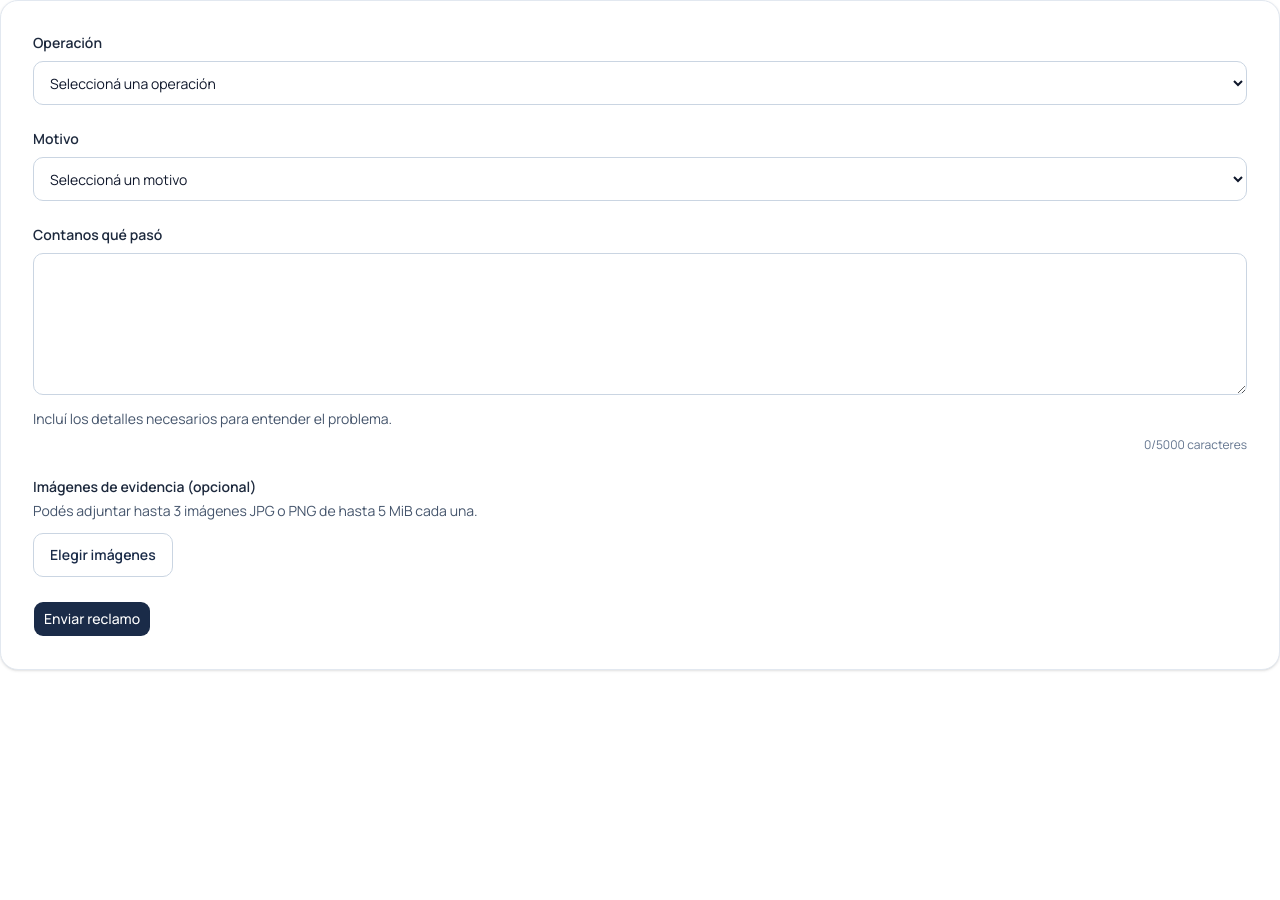
Test case: ParticipantClaimForm › validates required fields and associates the error with the first invalid control
Click the button with test id "claim-submit" at (92, 619), box [33,601,151,637]
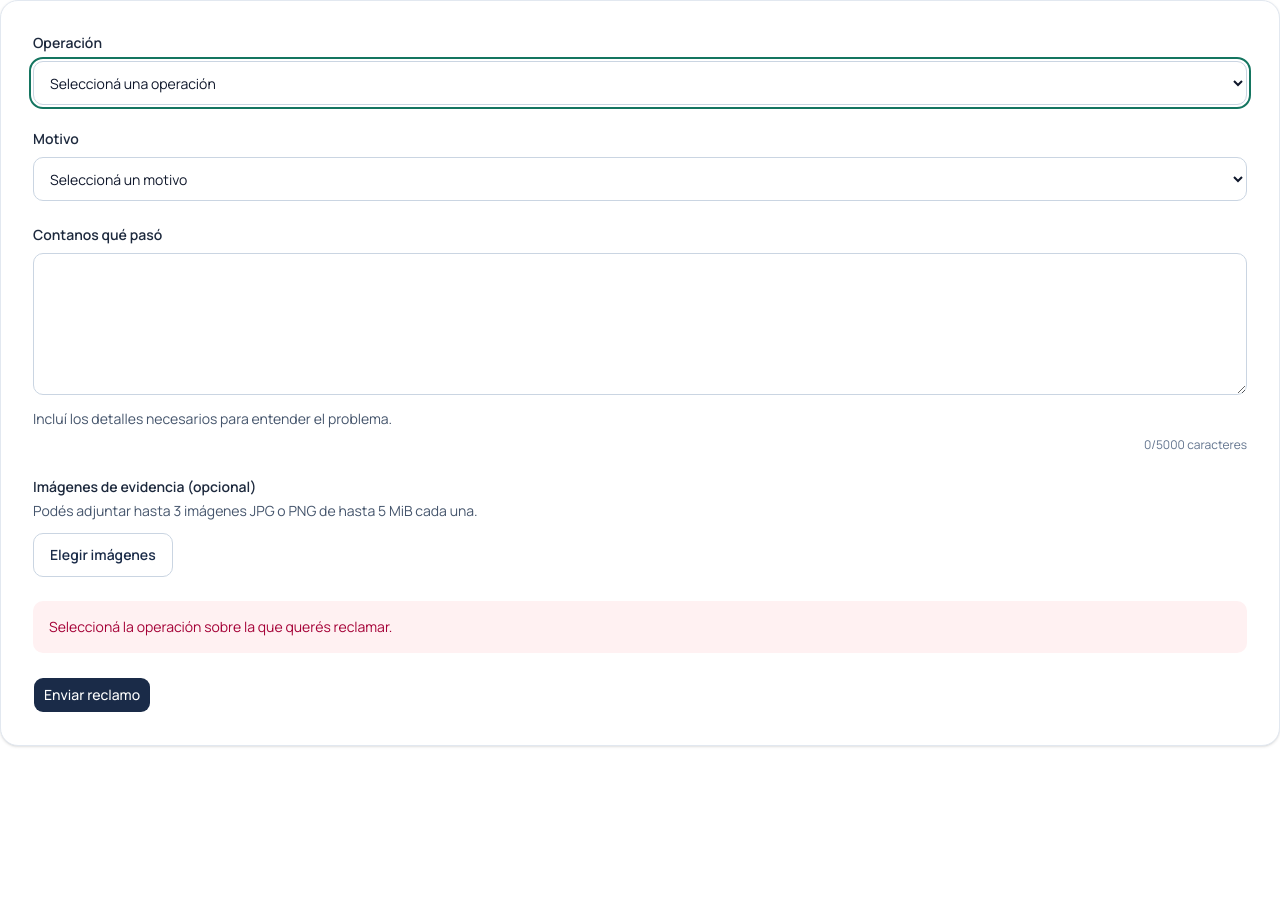
Now the message shows "Seleccioná la operación", box [49,617,392,636]
